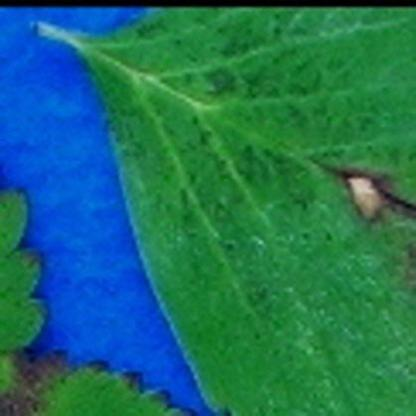Strawberry_Leaf_Spot: (69, 7, 415, 415)
